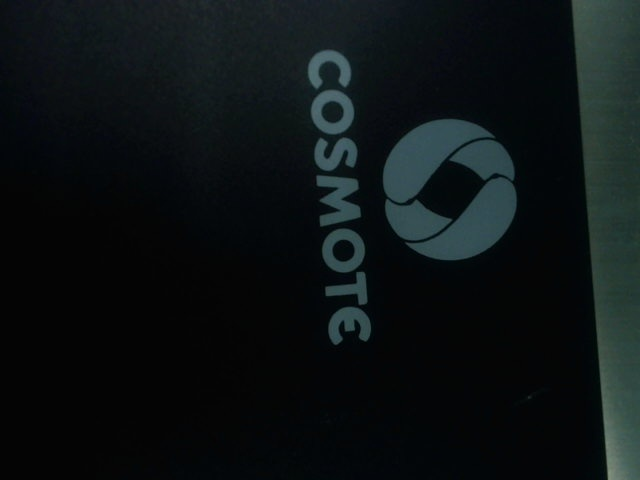AU_COSMOTE: (299, 46, 528, 357)
